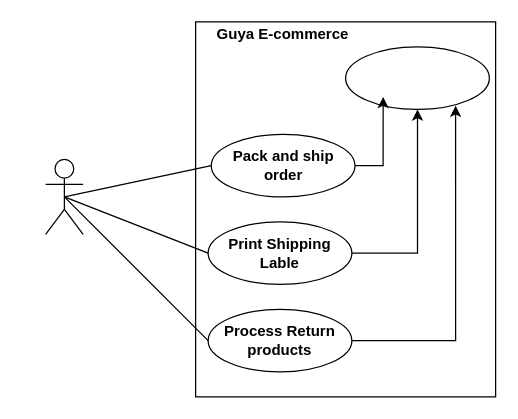
This 518x419 diagram has some shape labels left out. Here are the shapes that lost their labels. From the top down, the box of each, then its label:
(344, 46, 489, 109): Process Delivery Order {abstract}
(44, 158, 83, 234): Warehouse clerk
